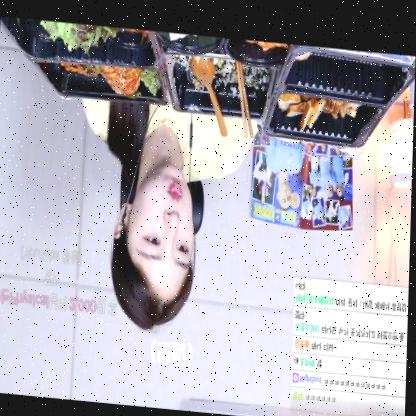donation: (0, 237, 121, 320)
streamer: (78, 95, 260, 333)
